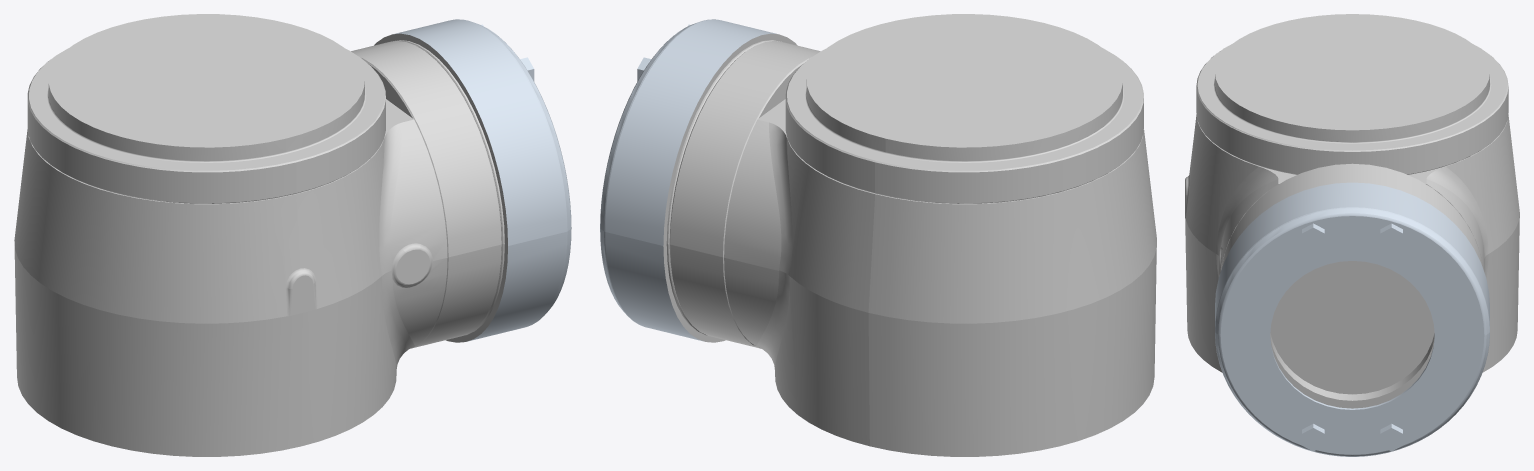
The picture shows the model from 3 angles, left to right: view 1: azimuth 30°, elevation 25°; view 2: azimuth 150°, elevation 25°; view 3: azimuth 270°, elevation 25°; orthographic projection. The views are drawn at different scales.
Parts seen in each view (by area): view 1: Mesh_0; view 2: Mesh_0; view 3: Mesh_0.
Part boxes in pixels (x1,y1,x2,y2): Mesh_0: (14, 14, 571, 456); Mesh_0: (600, 14, 1156, 456); Mesh_0: (1185, 14, 1519, 456).
Size of the model in its own units: 0.1647 by 0.1032 by 0.118.
